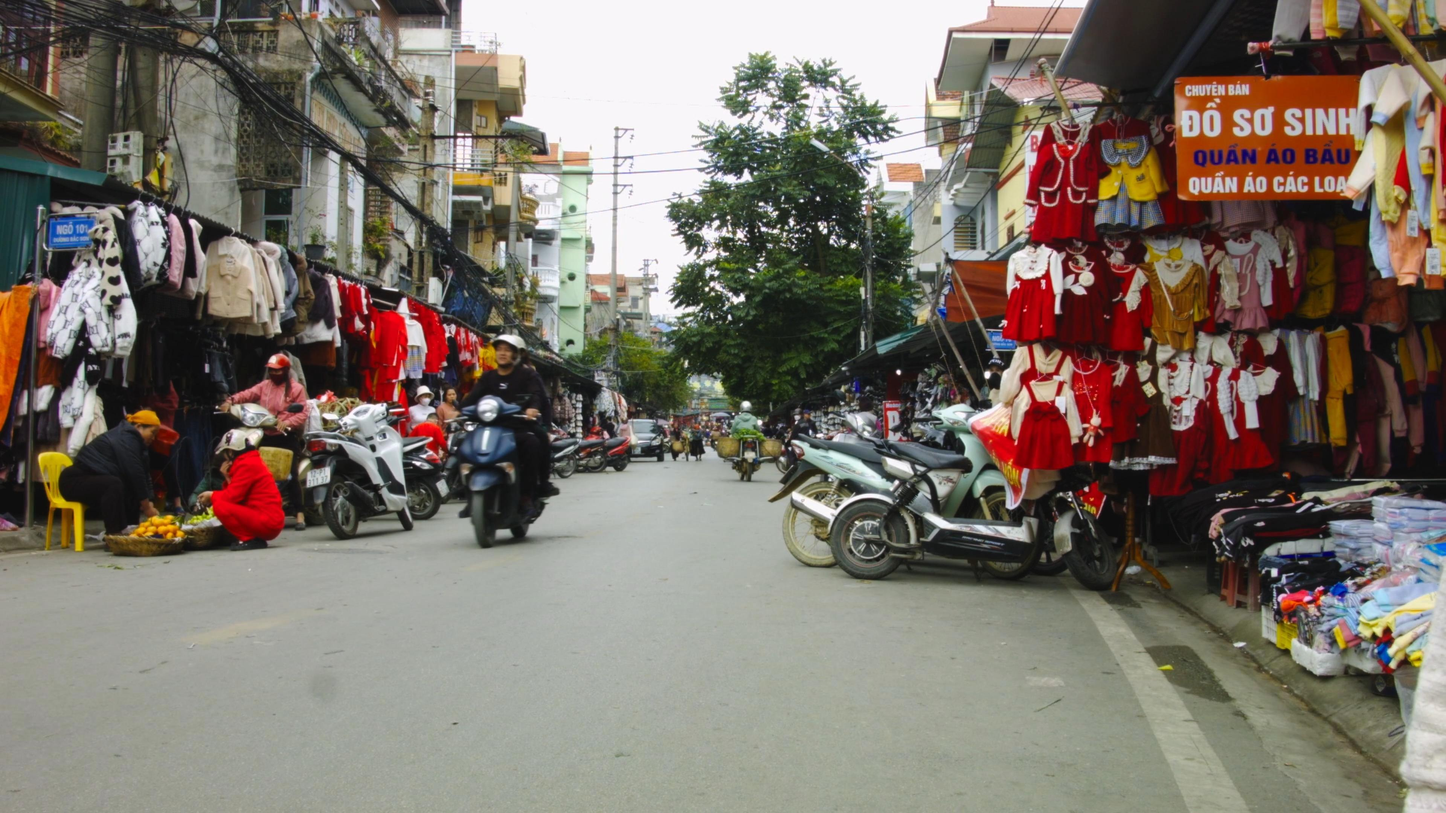driver: (444, 334, 560, 549), (718, 401, 782, 481)
helmet: (491, 334, 519, 368), (265, 353, 291, 386), (740, 401, 752, 413)
